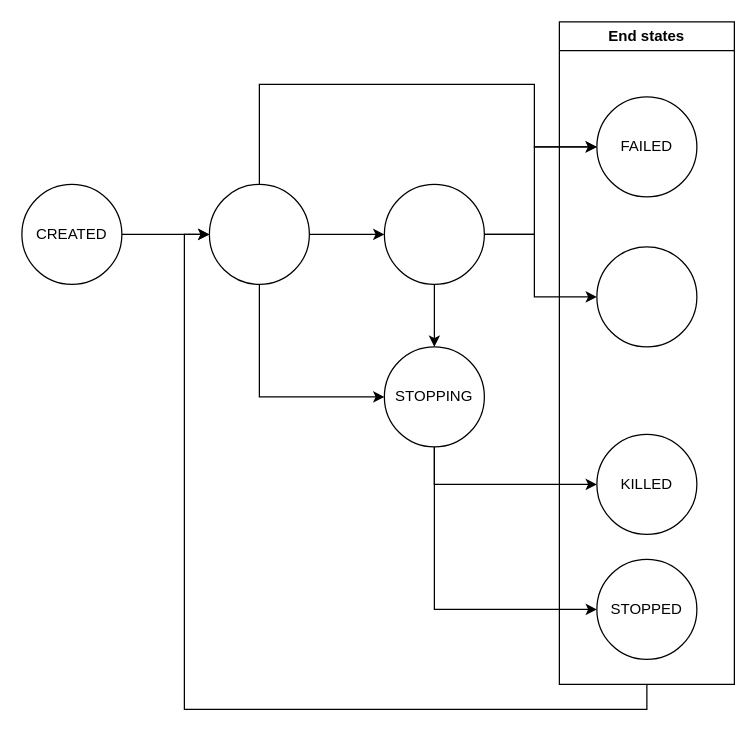
This 756x741 diagram has some shape labels left out. The shapes that lost their labels are listed below. From the top down, each one's centre as x and y in pixels, then its label:
(258,233): STARTING
(433,233): RUNNING
(646,296): SUCCEEDED
